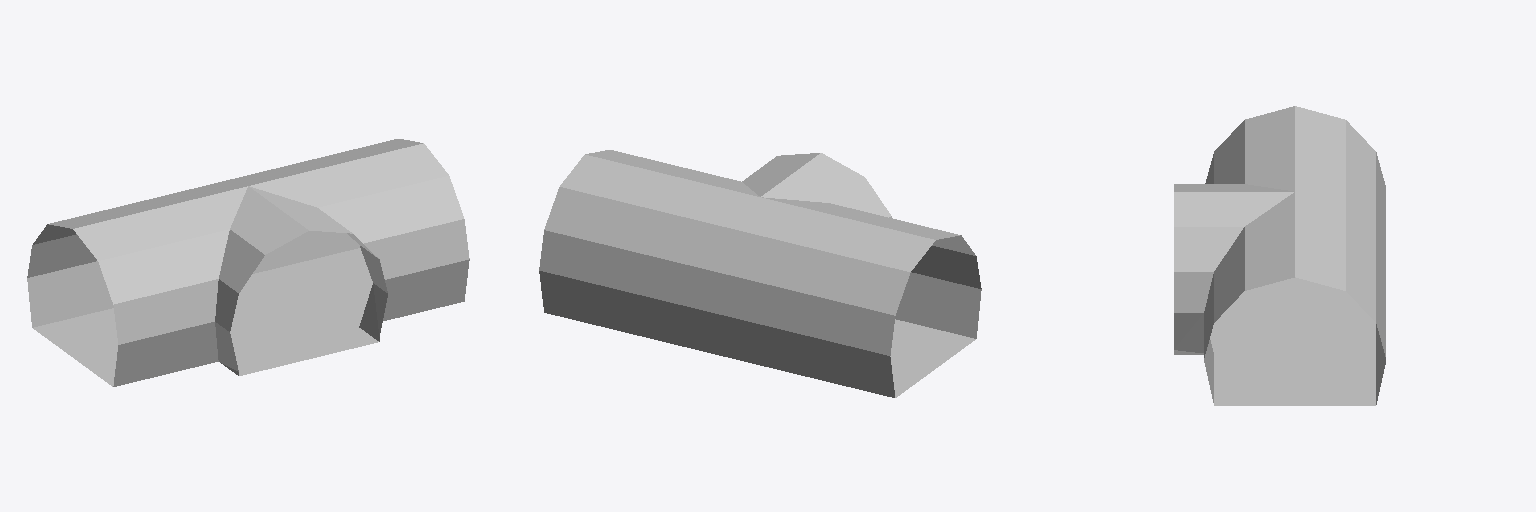
File: underground_section_end.obj
3 renders of one model, left to right at view 1: azimuth 30°, elevation 25°; view 2: azimuth 150°, elevation 25°; view 3: azimuth 270°, elevation 25°, orthographic.
Visible parts, largest first — view 1: SewerSectionT_00; view 2: SewerSectionT_00; view 3: SewerSectionT_00.
Boxes of the visible parts, <box> form: SewerSectionT_00: <box>27,139,469,386</box>; SewerSectionT_00: <box>539,150,981,397</box>; SewerSectionT_00: <box>1174,106,1385,405</box>.
Size of the model in its own units: 8 by 2.8 by 4.2.